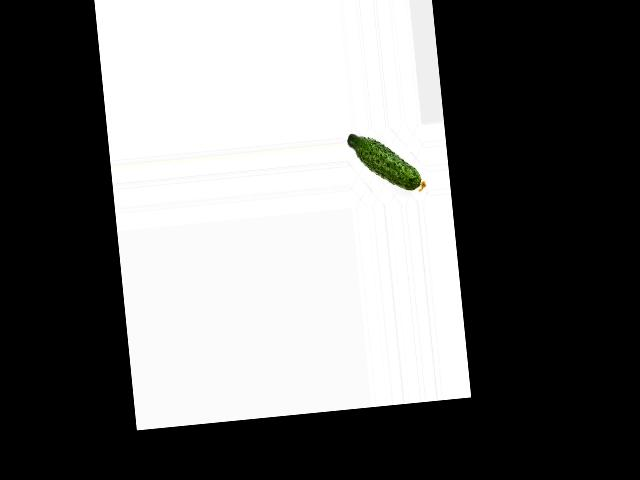cucumber: (347, 126, 426, 197)
